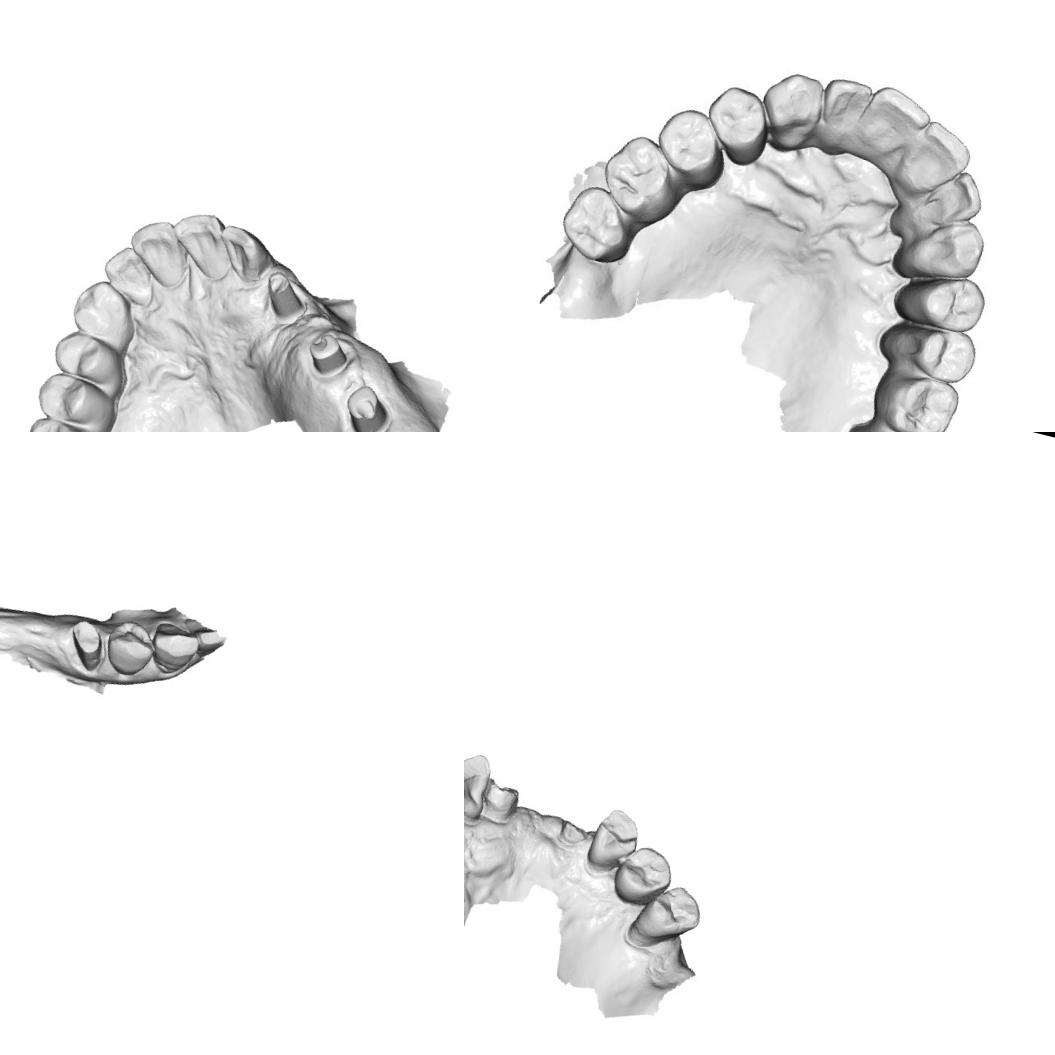abutment: (335, 378, 395, 432), (257, 267, 310, 326), (300, 327, 354, 380)
canine: (749, 64, 829, 156), (903, 207, 989, 289), (64, 274, 145, 350), (583, 801, 646, 875), (144, 618, 200, 679)
crown: (59, 614, 110, 676)
incisor: (892, 110, 976, 201), (856, 80, 935, 163), (914, 158, 992, 239), (162, 204, 240, 284), (812, 70, 878, 151), (120, 212, 192, 284), (209, 220, 278, 288), (94, 240, 161, 309), (464, 745, 497, 823), (179, 618, 226, 660)
molar: (594, 126, 681, 222), (550, 178, 639, 270), (875, 364, 966, 432), (13, 412, 121, 432)
premolar: (694, 76, 777, 167), (648, 102, 730, 186), (629, 873, 709, 952), (910, 264, 992, 341), (901, 316, 982, 389), (30, 366, 119, 432), (608, 838, 678, 914), (46, 324, 126, 388), (99, 616, 162, 682)
